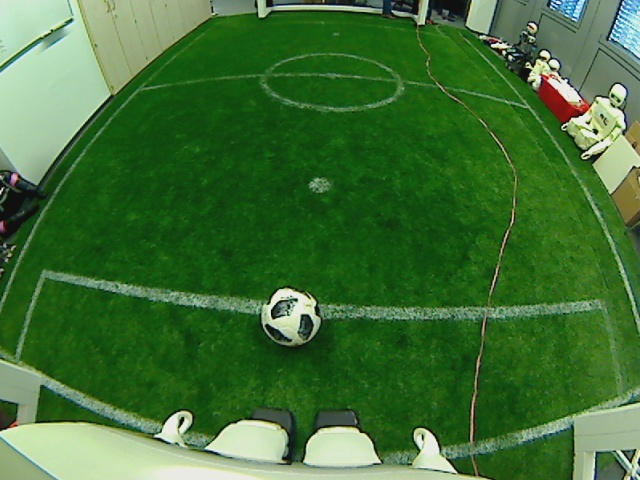ball: (257, 285, 324, 349)
